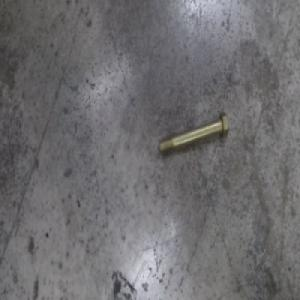Bolt: (158, 109, 229, 157)
